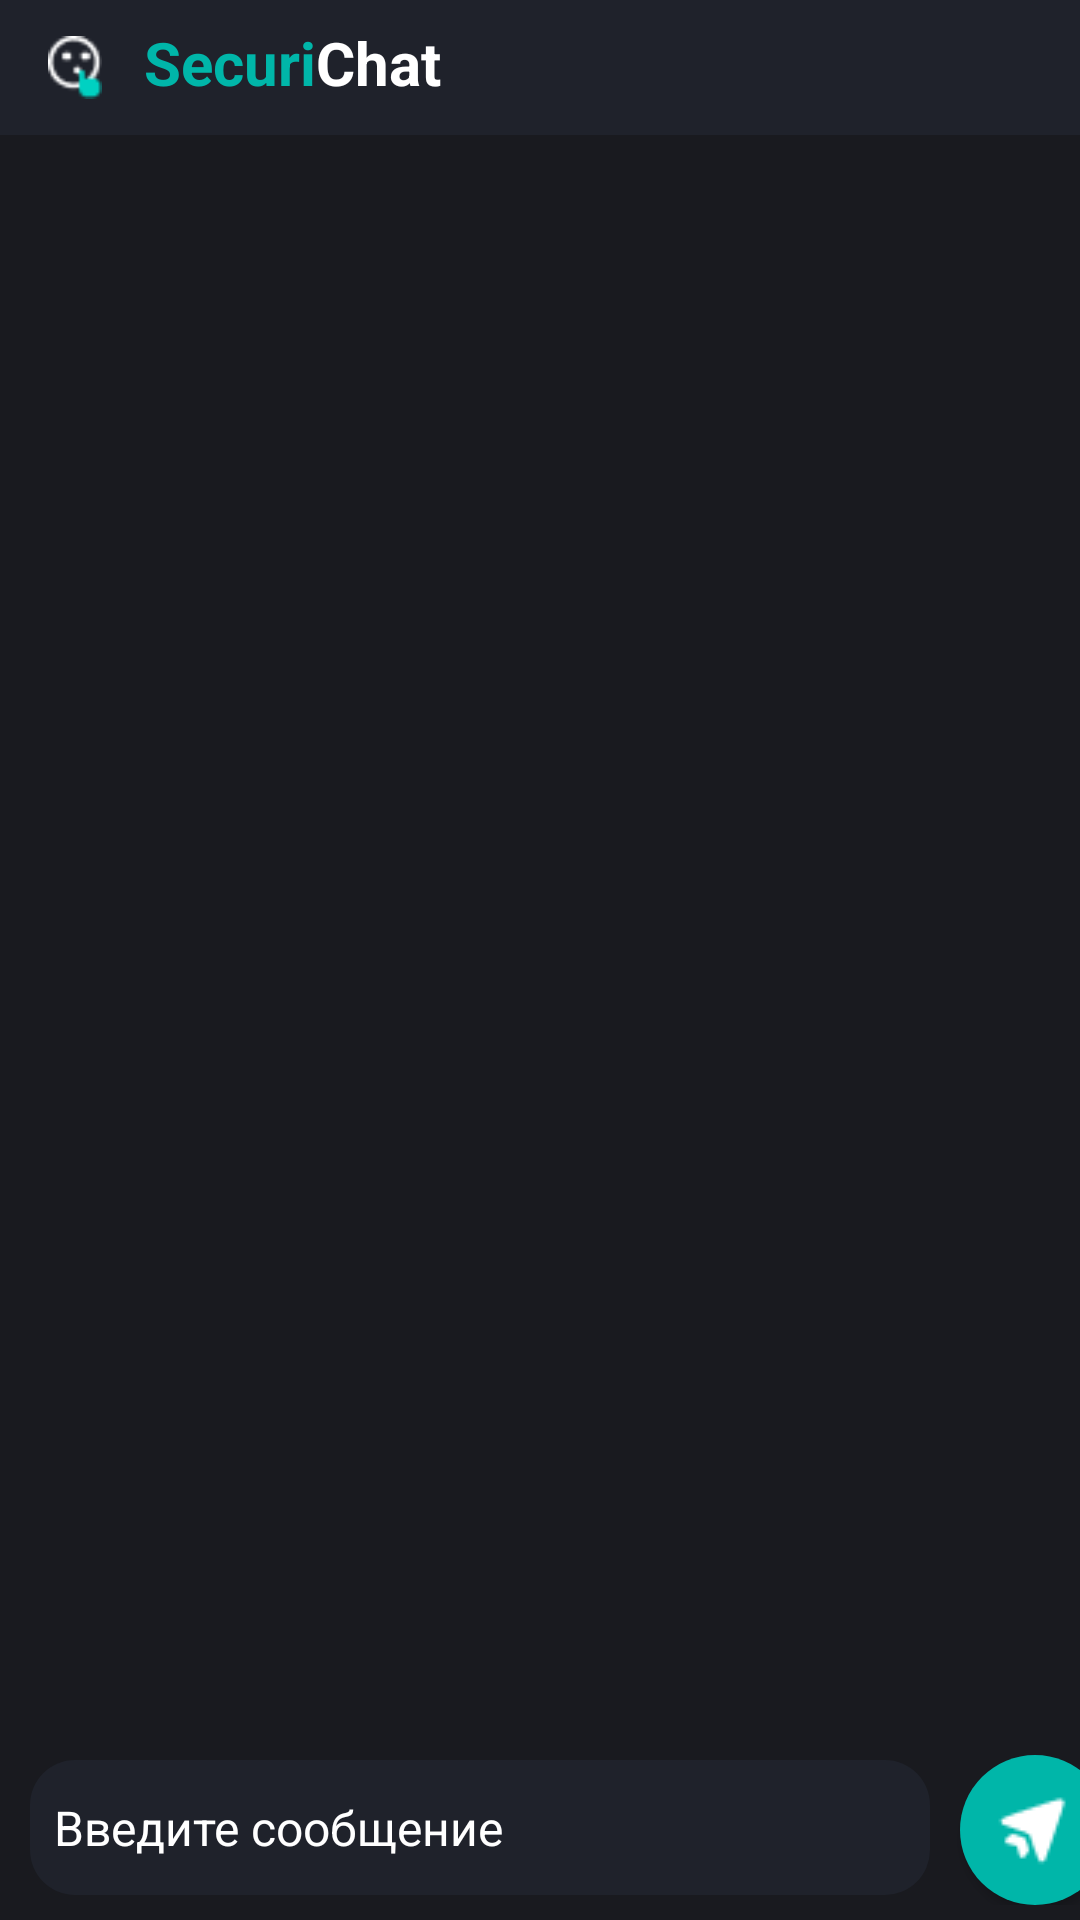

Point at icon controls on the screen. Image size 1080 × 1920, points as (x,y).
iconheader: (75,67)
